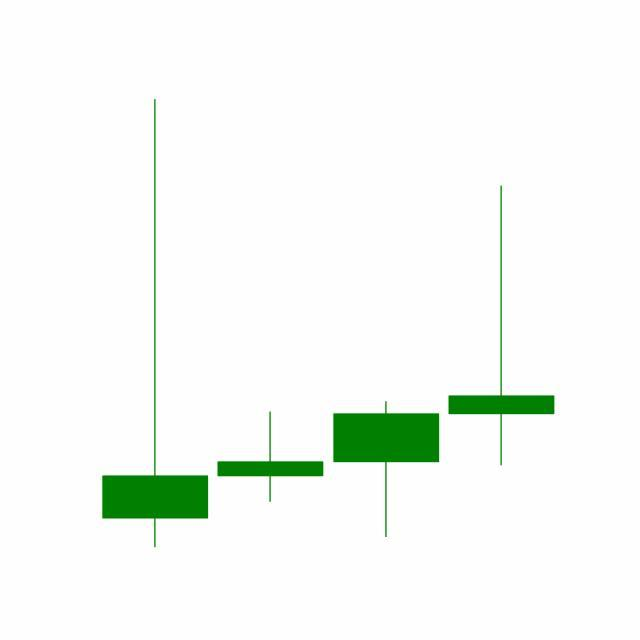Spinning Top: (444, 183, 560, 469)
